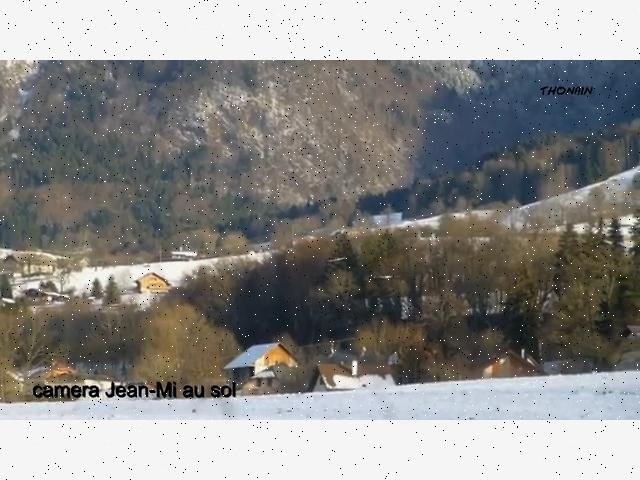Anti-Drone: (370, 269, 402, 289), (328, 253, 350, 269)
